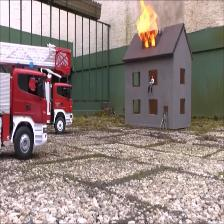fire: (135, 5, 161, 46)
